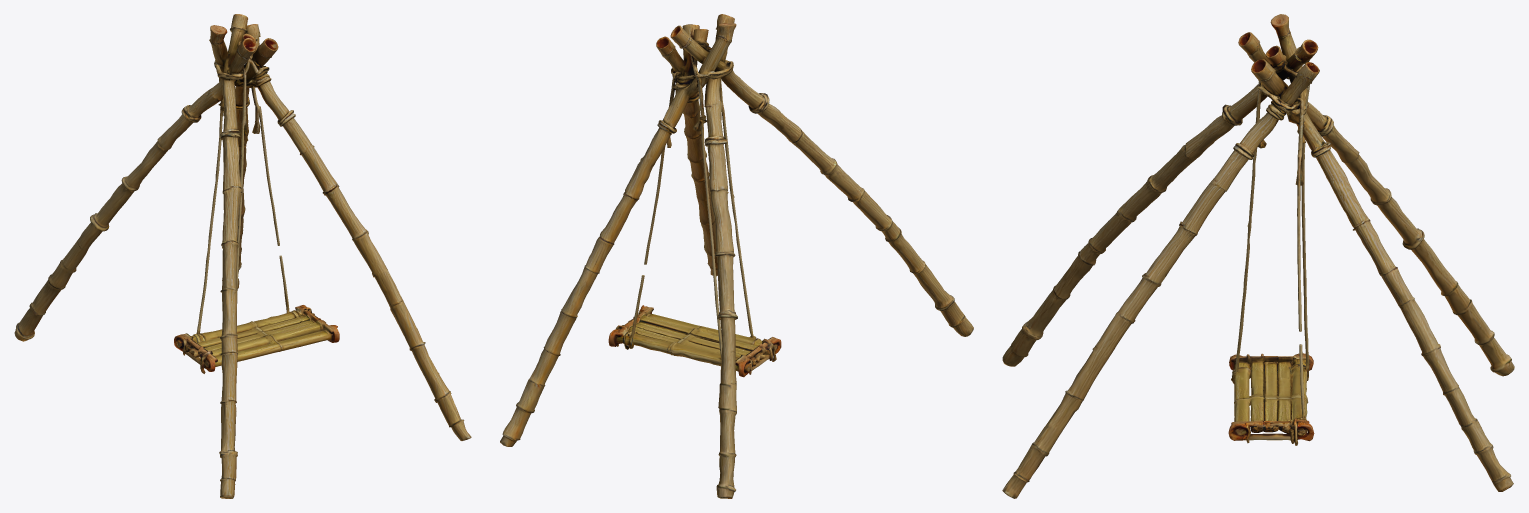
File: linge_ping.glb
The picture shows the model from 3 angles, left to right: view 1: azimuth 30°, elevation 25°; view 2: azimuth 150°, elevation 25°; view 3: azimuth 270°, elevation 25°; orthographic projection. The views are drawn at different scales.
Parts seen in each view (by area): view 1: tripo_node_1b04f43b-7556-437b-9396-cd4bd4573a23; view 2: tripo_node_1b04f43b-7556-437b-9396-cd4bd4573a23; view 3: tripo_node_1b04f43b-7556-437b-9396-cd4bd4573a23.
Boxes of the visible parts, x1,y1,x2,y2 form: tripo_node_1b04f43b-7556-437b-9396-cd4bd4573a23: (14, 14, 471, 498); tripo_node_1b04f43b-7556-437b-9396-cd4bd4573a23: (500, 14, 973, 498); tripo_node_1b04f43b-7556-437b-9396-cd4bd4573a23: (1002, 14, 1514, 498).
Bounding box in the file's own units: 0.6136 × 0.85 × 0.9596.
Materials: 1 (1 with a texture image).
